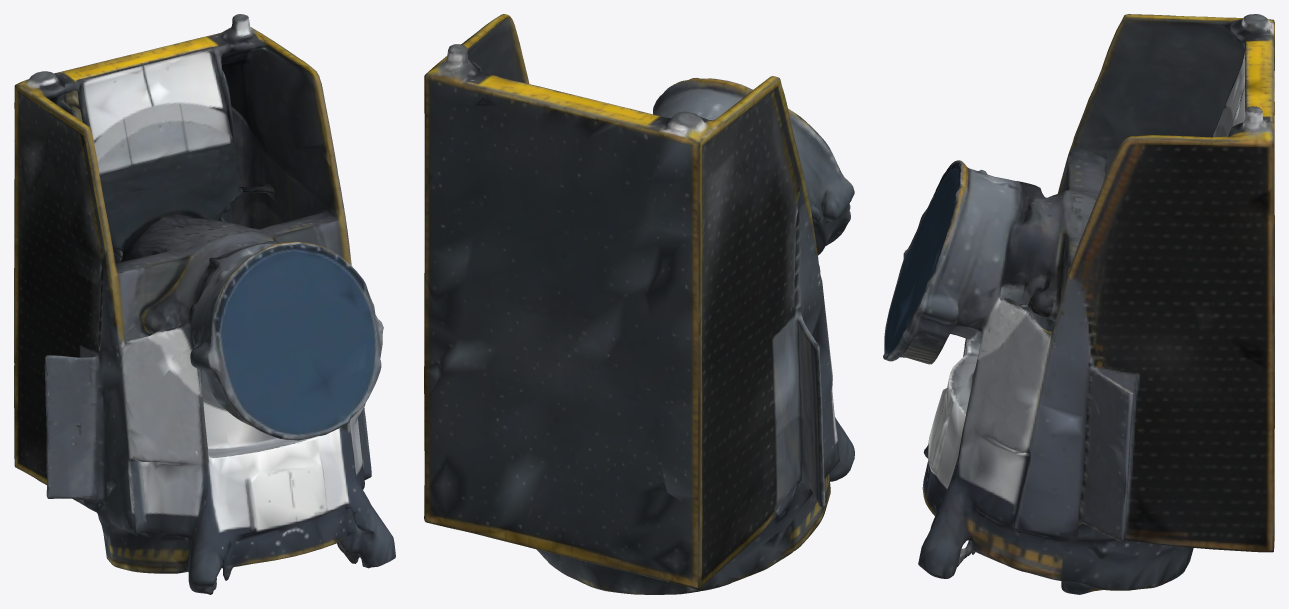
File: cheops.glb
3 renders of one model, left to right at view 1: azimuth 30°, elevation 25°; view 2: azimuth 150°, elevation 25°; view 3: azimuth 270°, elevation 25°, orthographic. The views are drawn at different scales.
Size of the model in its own units: 1.39 by 1.98 by 1.41.
1 material, 1 textured.
